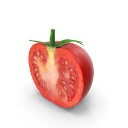tomato: (28, 40, 94, 109)
